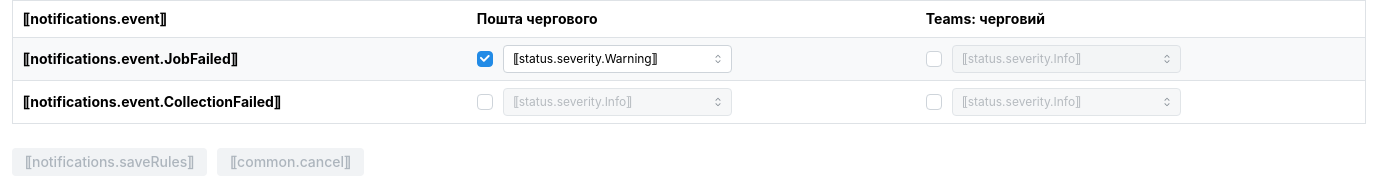
Test: RulesMatrixPanel: незбережені правки (U14a) › після збереження джерело знято, beforeunload мовчить, кнопка знову вимкнена
The image size is (1378, 193).
Click the checkbox named "⟦notifications.event.JobFailed⟧ · Teams: черговий": (934, 59) [926,51,942,67]
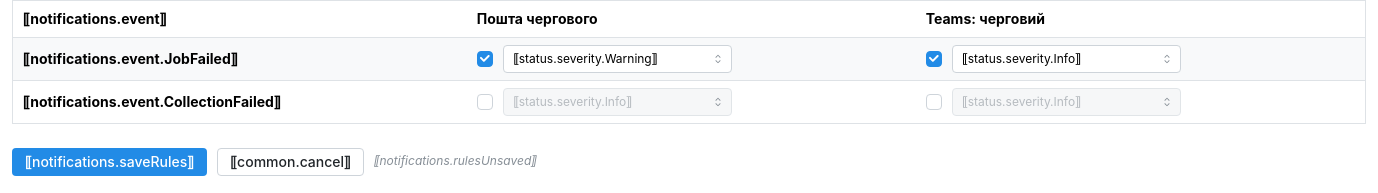
Click the button "⟦notifications.saveRules⟧": (110, 162) [12,148,207,176]
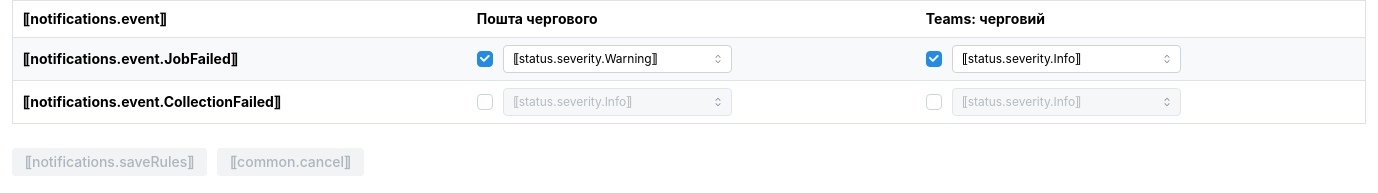
Result: the button "⟦notifications.saveRules⟧" is disabled at [12,148,207,176]
Result: the text with test id "notification-rules-unsaved" is gone
